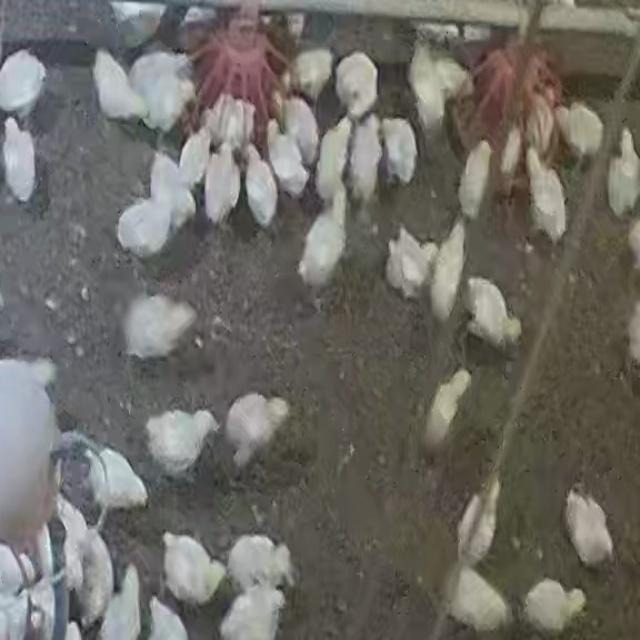chicken: (293, 195, 351, 295), (407, 41, 467, 136), (127, 49, 194, 134), (142, 406, 218, 479), (159, 530, 229, 607), (121, 294, 195, 364), (461, 276, 522, 355), (91, 48, 149, 128), (225, 532, 295, 597), (226, 391, 288, 464), (443, 564, 509, 632), (84, 446, 148, 515), (524, 146, 568, 246), (564, 486, 614, 569), (423, 369, 472, 453), (115, 193, 175, 260), (456, 479, 501, 567), (384, 224, 434, 302), (431, 221, 468, 323), (218, 583, 285, 639), (523, 578, 587, 634), (98, 561, 143, 640), (0, 47, 48, 118), (332, 49, 380, 120), (314, 118, 352, 206), (348, 113, 383, 207), (203, 141, 241, 227), (267, 124, 310, 199), (2, 116, 38, 204), (242, 144, 279, 229), (457, 138, 495, 218), (607, 127, 640, 218), (381, 116, 420, 188), (152, 155, 192, 224), (560, 101, 604, 163), (274, 91, 317, 154), (57, 501, 87, 587), (292, 48, 336, 103), (81, 537, 108, 626), (203, 99, 258, 141), (147, 596, 187, 640), (181, 127, 212, 176), (527, 93, 554, 149), (499, 124, 527, 175)
